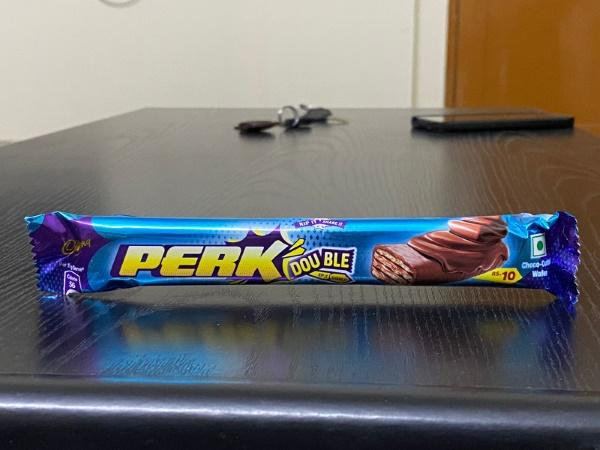Perk: (22, 194, 585, 320)
